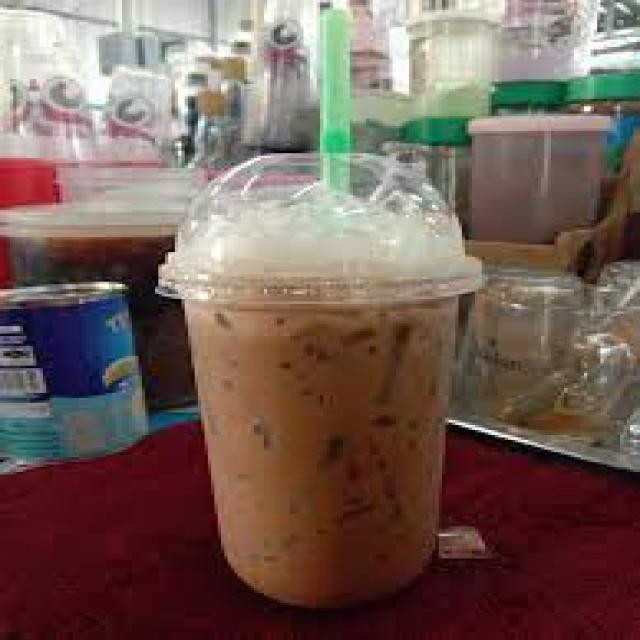cup: (156, 152, 487, 610)
